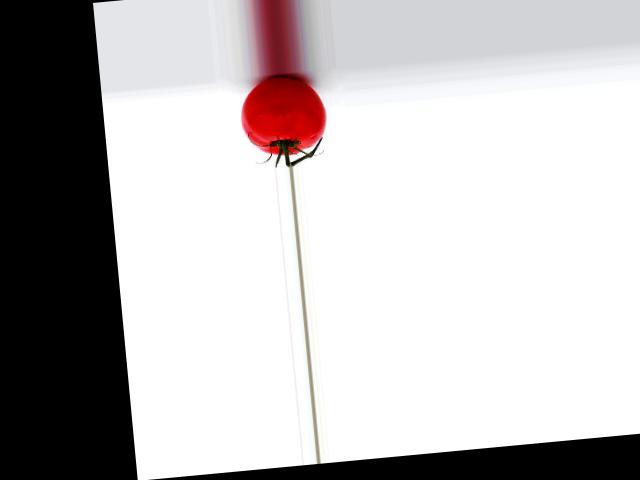tomato: (236, 72, 328, 158)
